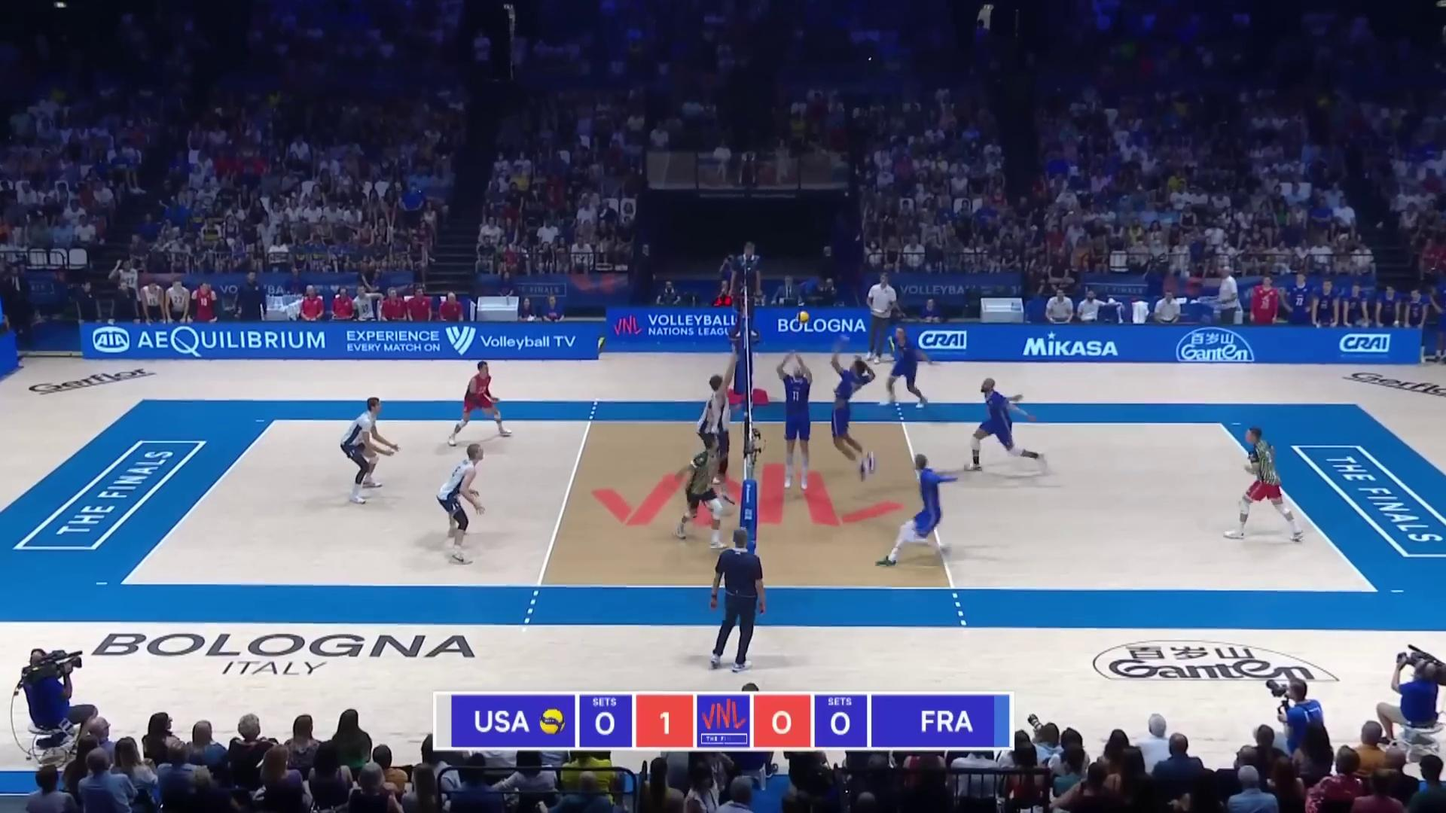player: (1223, 427, 1306, 545), (962, 377, 1051, 478), (882, 453, 955, 566), (338, 396, 400, 505), (440, 445, 490, 566), (830, 352, 877, 480), (778, 350, 816, 500), (676, 436, 727, 545), (450, 362, 513, 443), (695, 375, 733, 497), (690, 379, 729, 482), (884, 327, 932, 409)
refree: (714, 533, 770, 674), (728, 242, 763, 341)
